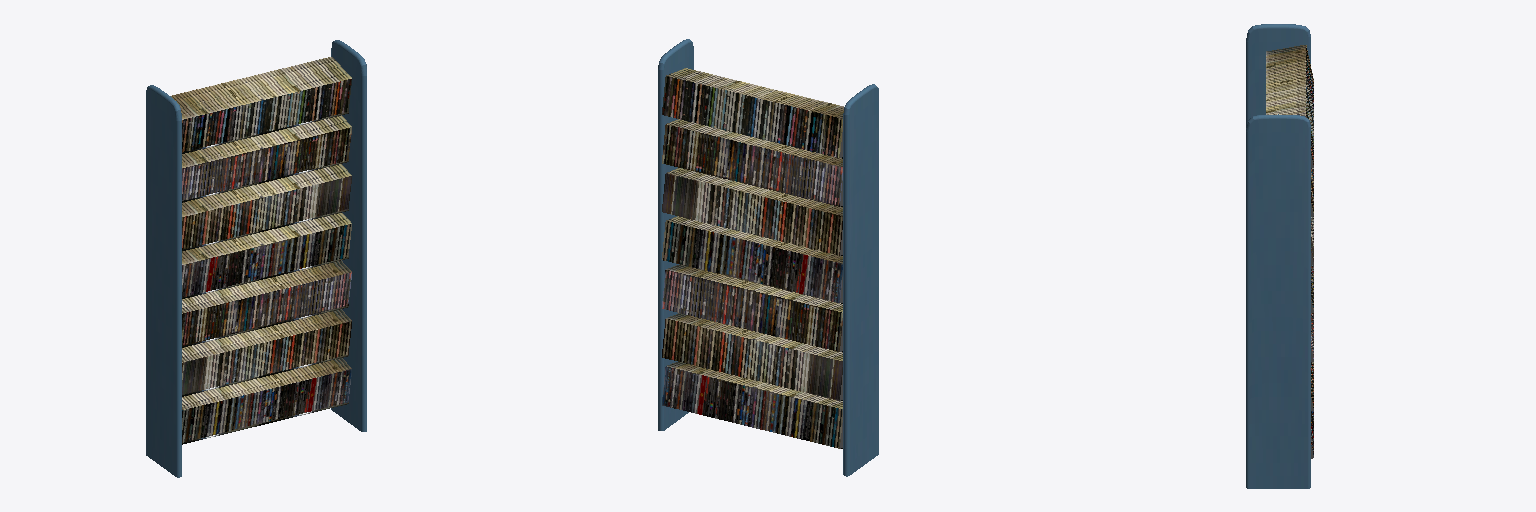
The picture shows the model from 3 angles: view 1: azimuth 30°, elevation 25°; view 2: azimuth 150°, elevation 25°; view 3: azimuth 270°, elevation 25°; orthographic projection.
Visible parts, largest first — view 1: loftedSurface67_29_29, pCube14_3_3, pCube2064_24_24, pCube24_6_6, loftedSurface65_27_27, pCube2054_21_21, pCube44_12_12, pCube34_9_9, pCube2044_18_18, pCube12_2_2, loftedSurface67_29_73, pCube2044_18_62 (+24 smaller); view 2: loftedSurface67_29_29, pCube24_6_6, pCube14_3_3, pCube2064_24_24, pCube34_9_9, pCube44_12_12, pCube2044_18_18, pCube2054_21_21, loftedSurface67_29_73, pCube2054_21_65, pCube2044_18_62, pCube44_12_56 (+19 smaller); view 3: loftedSurface66_28_28, loftedSurface66_28_72, pCube12_2_2, extrudedSurface1521_26_26, loftedSurface68_30_30, loftedSurface68_30_74, pCube12_2_46, extrudedSurface1521_26_70.
Boxes of the visible parts, <box> form: loftedSurface67_29_29: <box>147,89,175,476</box>; pCube14_3_3: <box>182,79,351,151</box>; pCube2064_24_24: <box>182,369,351,442</box>; pCube24_6_6: <box>182,127,351,200</box>; loftedSurface65_27_27: <box>332,44,360,430</box>; pCube2054_21_21: <box>182,321,351,394</box>; pCube44_12_12: <box>182,224,351,296</box>; pCube34_9_9: <box>182,176,351,249</box>; pCube2044_18_18: <box>182,273,351,345</box>; pCube12_2_2: <box>171,57,351,119</box>; loftedSurface67_29_73: <box>147,89,175,474</box>; pCube2044_18_62: <box>182,272,351,344</box>; loftedSurface67_29_29: <box>850,89,878,473</box>; pCube24_6_6: <box>662,124,842,206</box>; pCube14_3_3: <box>662,76,842,157</box>; pCube2064_24_24: <box>662,366,842,448</box>; pCube34_9_9: <box>662,173,842,255</box>; pCube44_12_12: <box>662,221,842,302</box>; pCube2044_18_18: <box>662,270,842,351</box>; pCube2054_21_21: <box>662,319,842,400</box>; loftedSurface67_29_73: <box>850,88,878,474</box>; pCube2054_21_65: <box>662,320,842,400</box>; pCube2044_18_62: <box>662,270,842,350</box>; pCube44_12_56: <box>662,221,842,302</box>; loftedSurface66_28_28: <box>1249,119,1307,488</box>; loftedSurface66_28_72: <box>1249,119,1307,488</box>; pCube12_2_2: <box>1266,45,1305,116</box>; extrudedSurface1521_26_26: <box>1246,114,1310,488</box>; loftedSurface68_30_30: <box>1249,29,1307,118</box>; loftedSurface68_30_74: <box>1249,29,1306,117</box>; pCube12_2_46: <box>1266,45,1305,114</box>; extrudedSurface1521_26_70: <box>1246,115,1310,488</box>.
Bounding box in the file's own units: 65.7 × 122 × 20.3.
8 materials, 7 textured.